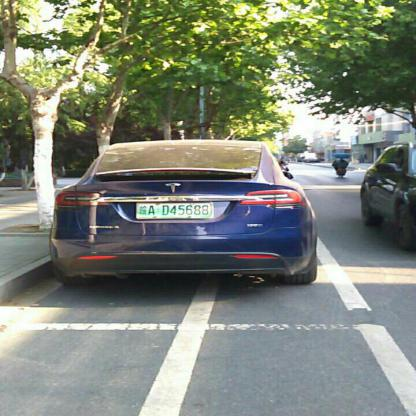lp: (137, 201, 211, 217)
